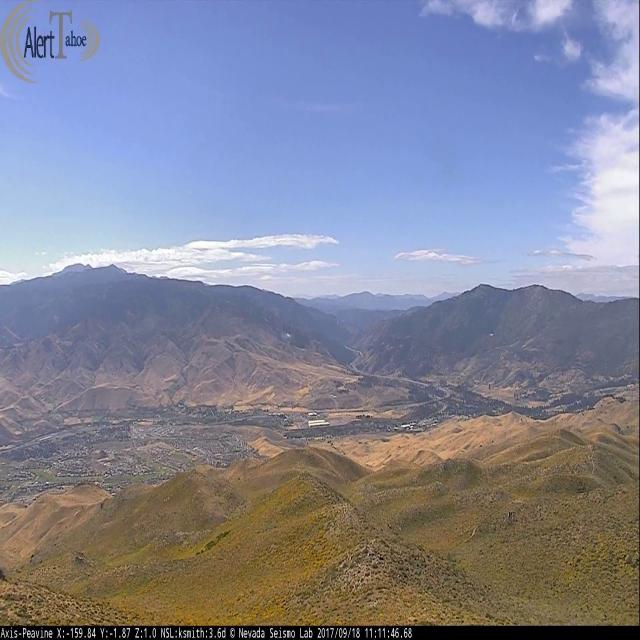smoke: (280, 332, 294, 340)
